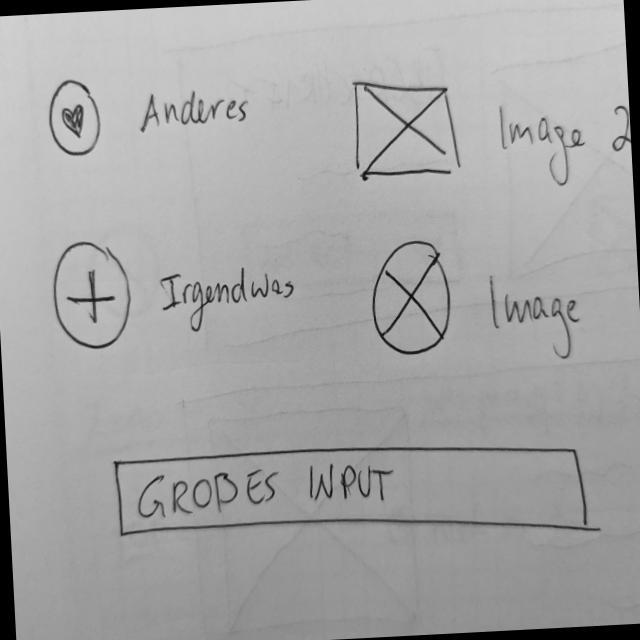icon-button: (51, 239, 139, 355), (46, 75, 106, 161)
image: (352, 71, 465, 183), (366, 237, 457, 358)
input: (111, 430, 596, 560)
label: (493, 93, 635, 194), (157, 264, 302, 338), (482, 264, 584, 367), (136, 84, 251, 139)
